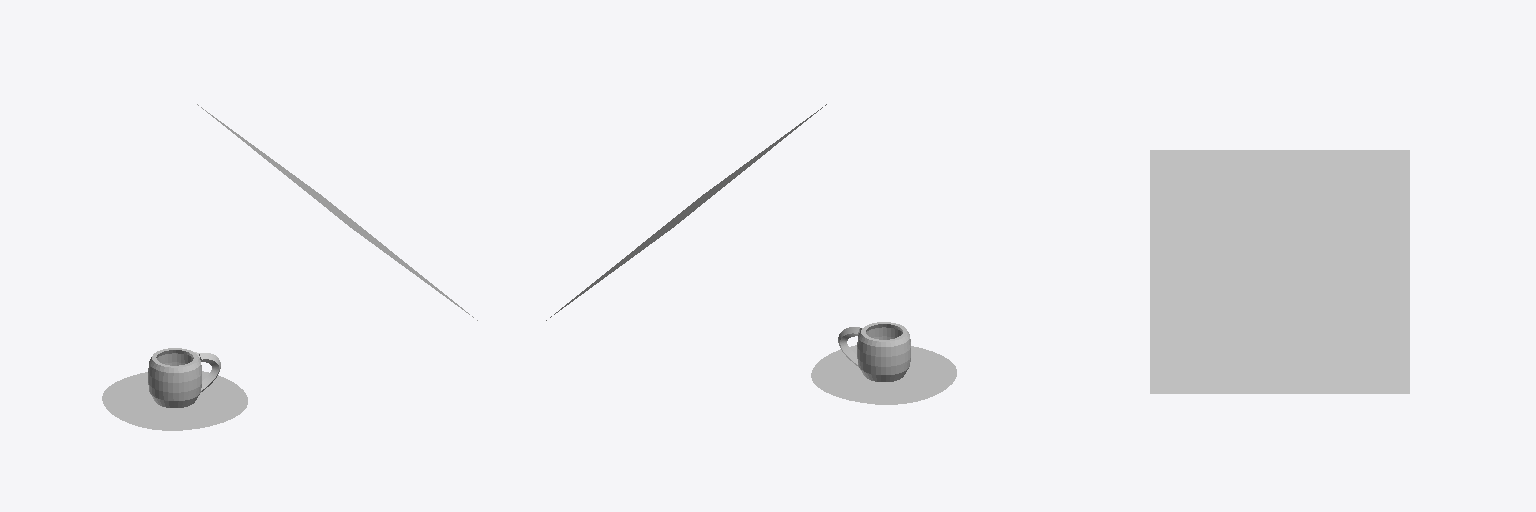
The model's file is coffeeCup.obj.
The picture shows the model from 3 angles: view 1: azimuth 30°, elevation 25°; view 2: azimuth 150°, elevation 25°; view 3: azimuth 270°, elevation 25°; orthographic projection.
Visible parts, largest first — view 1: Plane, NurbsPath_Mesh, Plane.001; view 2: Plane, NurbsPath_Mesh, Plane.001; view 3: Plane.001.
Part boxes in pixels (bbox=[...]): Plane: bbox=[102, 371, 247, 430]; NurbsPath_Mesh: bbox=[148, 348, 220, 407]; Plane.001: bbox=[197, 104, 477, 320]; Plane: bbox=[811, 345, 956, 404]; NurbsPath_Mesh: bbox=[838, 322, 910, 381]; Plane.001: bbox=[546, 104, 826, 320]; Plane.001: bbox=[1150, 150, 1409, 393].
Bounding box in the file's own units: 14.3 × 9.1 × 10.